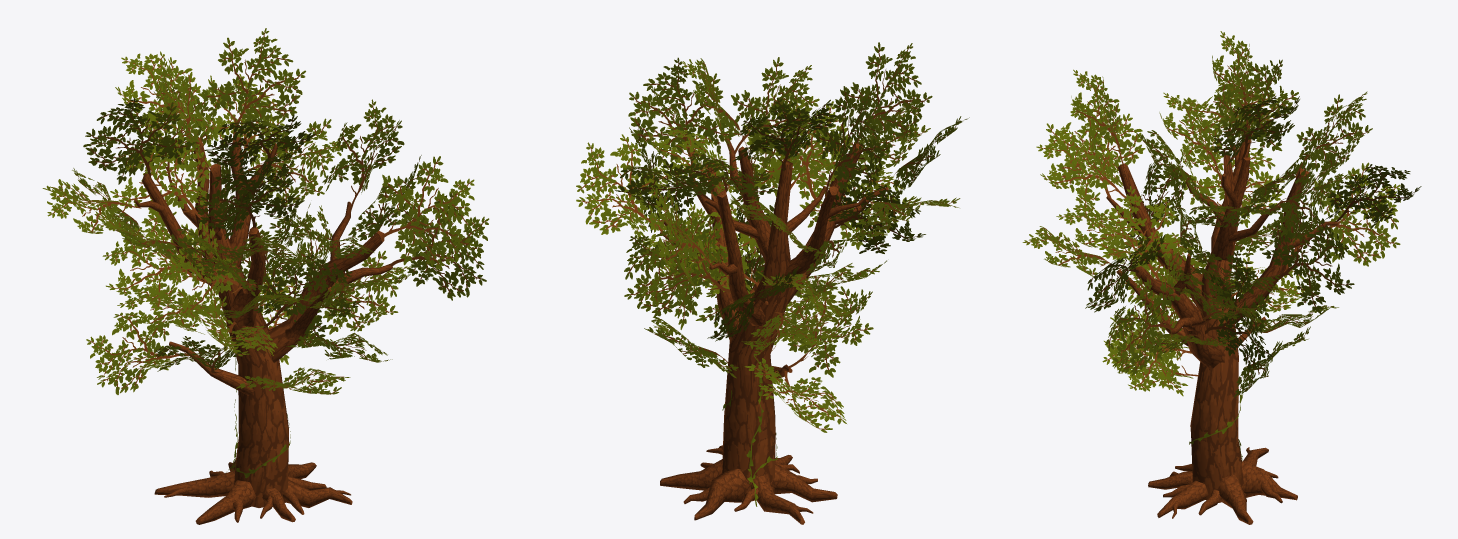
The model's file is wood_b.fbx.
The picture shows the model from 3 angles, left to right: view 1: azimuth 30°, elevation 25°; view 2: azimuth 150°, elevation 25°; view 3: azimuth 270°, elevation 25°; orthographic projection. The views are drawn at different scales.
Parts seen in each view (by area): view 1: wood_b; view 2: wood_b; view 3: wood_b.
Part boxes in pixels (box(x1,y1,x2,y2)): wood_b: box(42, 28, 489, 524); wood_b: box(576, 42, 969, 524); wood_b: box(1022, 31, 1421, 524).
Bounding box in the file's own units: 68.46 × 73.39 × 67.27.
